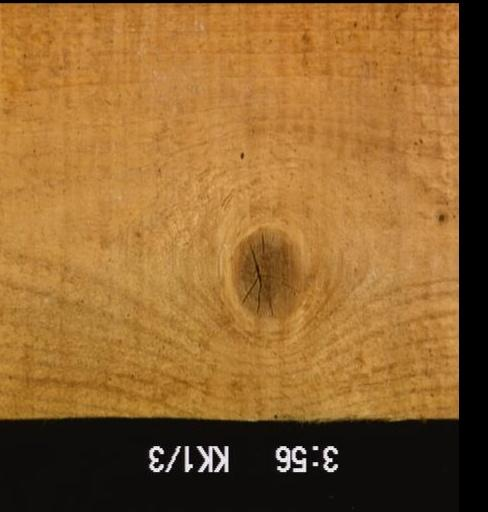small_knot: (435, 211, 446, 224)
sound_knot: (229, 225, 306, 322)
